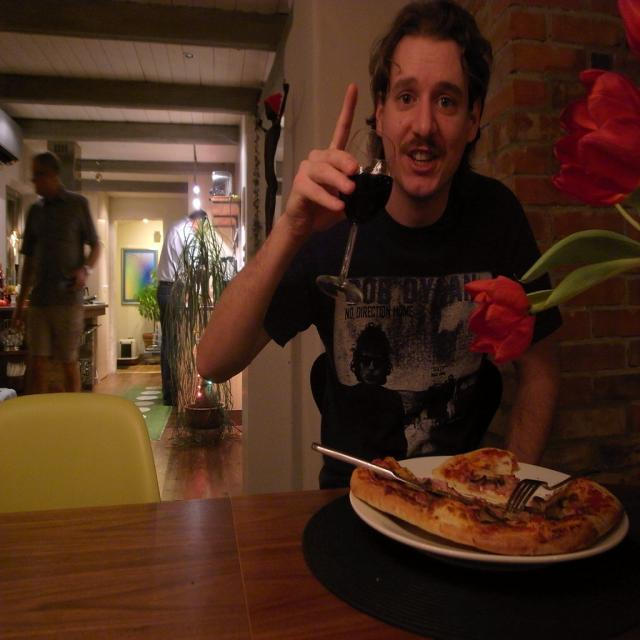Pizza: (355, 444, 611, 570)
